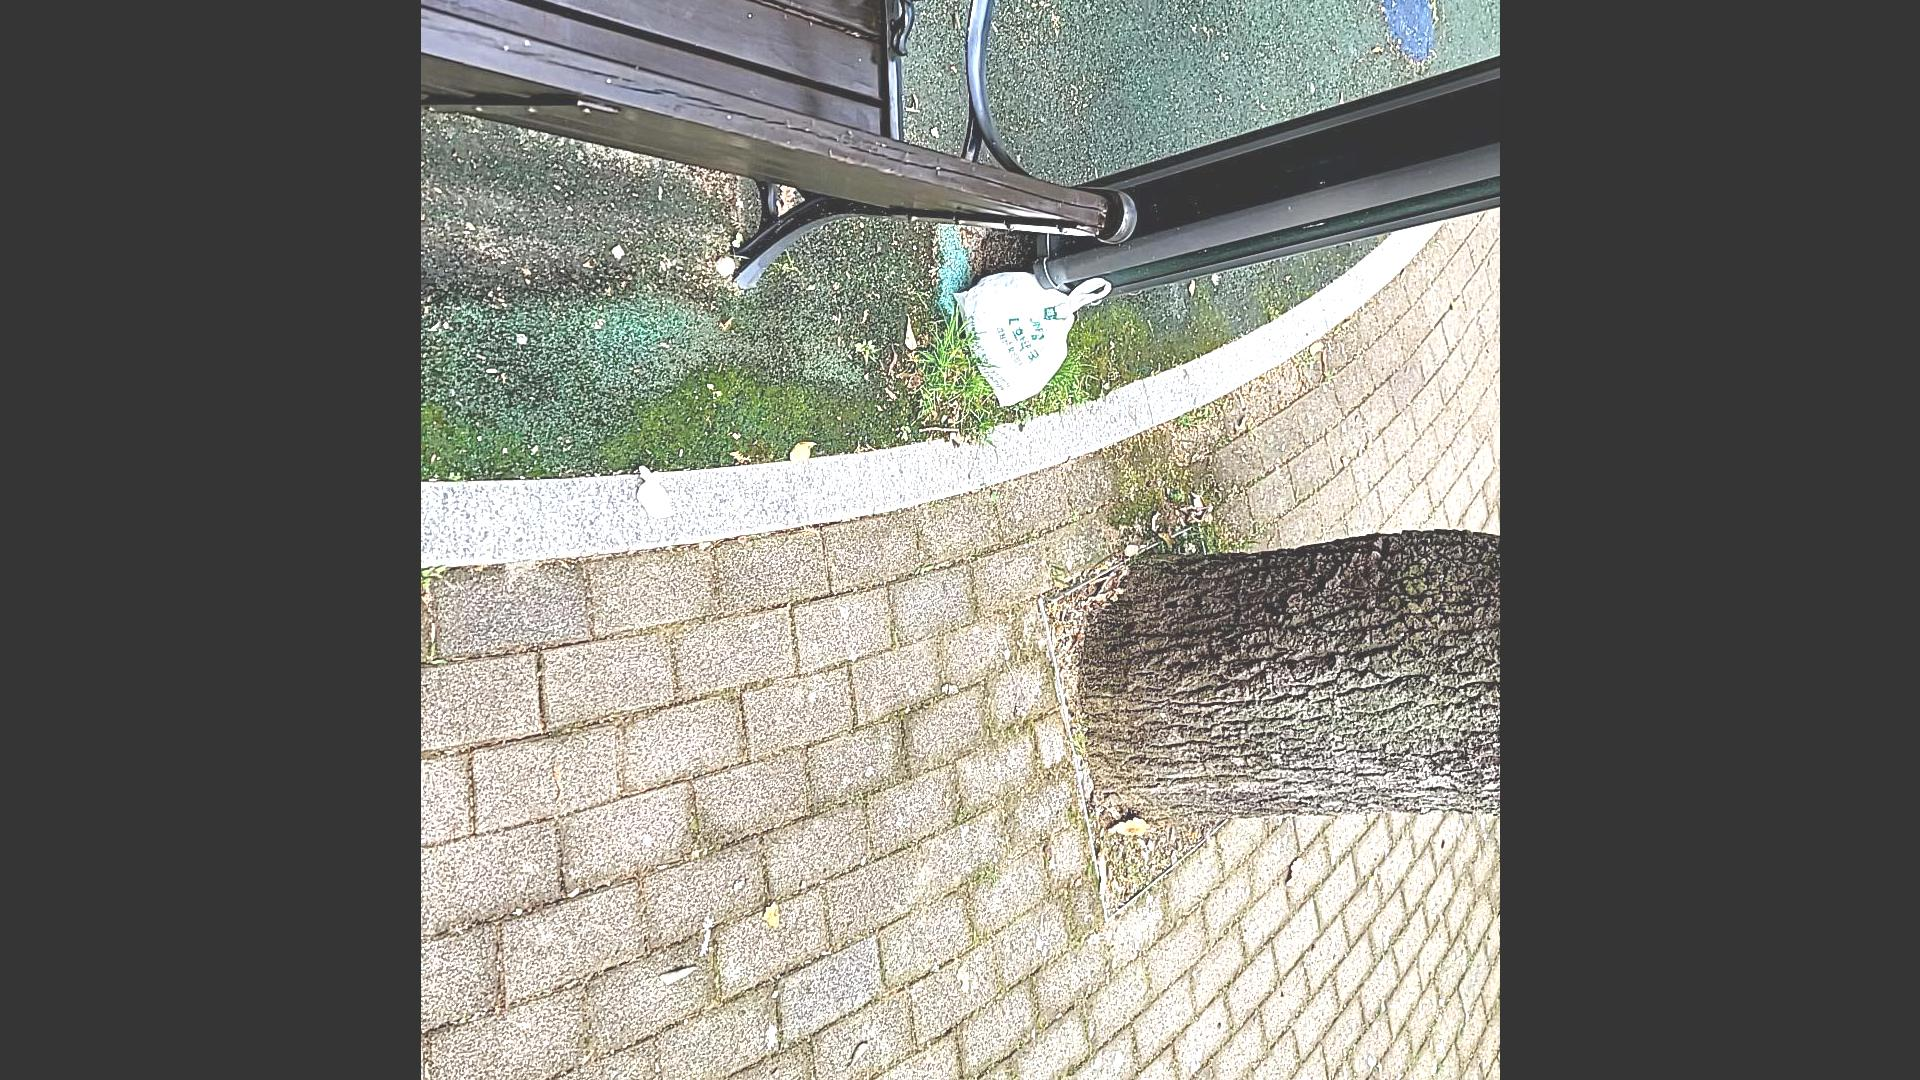white_bag: (953, 257, 1120, 425)
